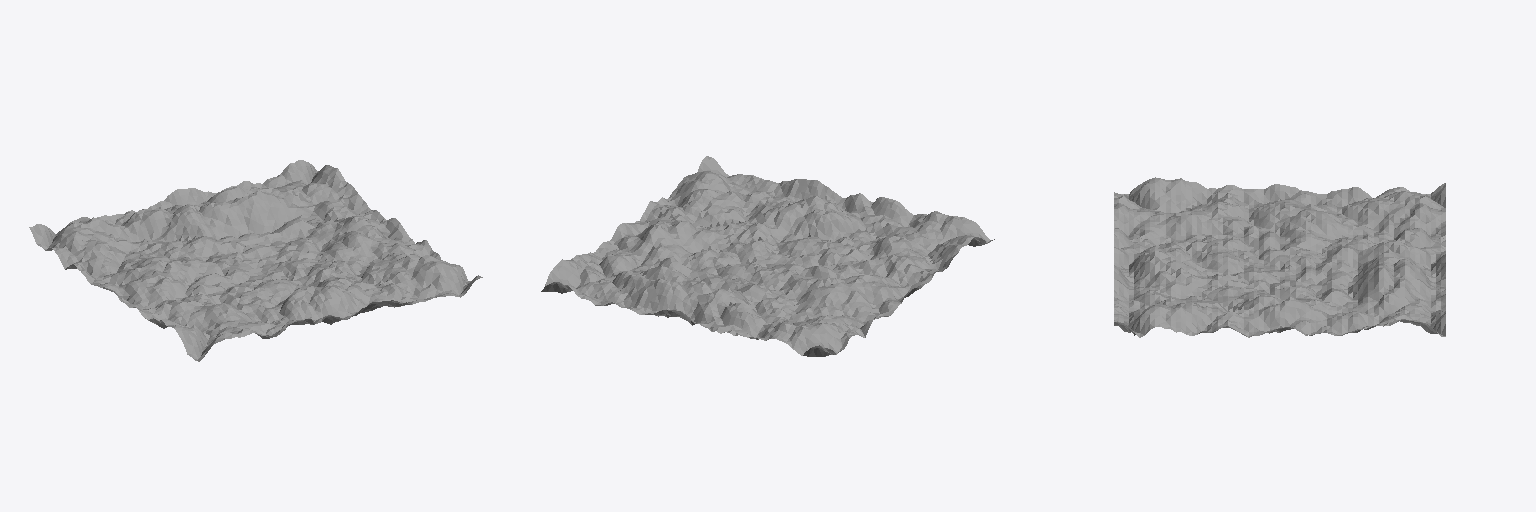
Rendered from ground.obj.
3 views of the same model, side by side, from view 1: azimuth 30°, elevation 25°; view 2: azimuth 150°, elevation 25°; view 3: azimuth 270°, elevation 25° (orthographic).
Bounding box in the file's own units: 2.2 × 0.2129 × 2.2.